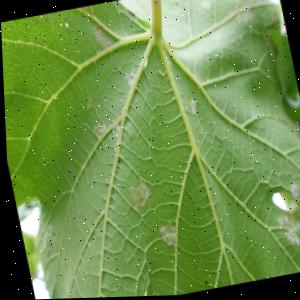Folha: (0, 0, 300, 300)
Fungo: (273, 211, 300, 250), (122, 178, 152, 213), (89, 19, 115, 53), (155, 219, 176, 251), (281, 182, 300, 214), (106, 123, 123, 154), (121, 67, 138, 90), (89, 120, 107, 141), (285, 182, 299, 202), (82, 96, 93, 112), (187, 98, 197, 115), (58, 19, 68, 29), (63, 21, 69, 28), (200, 279, 205, 286), (58, 22, 62, 26)
